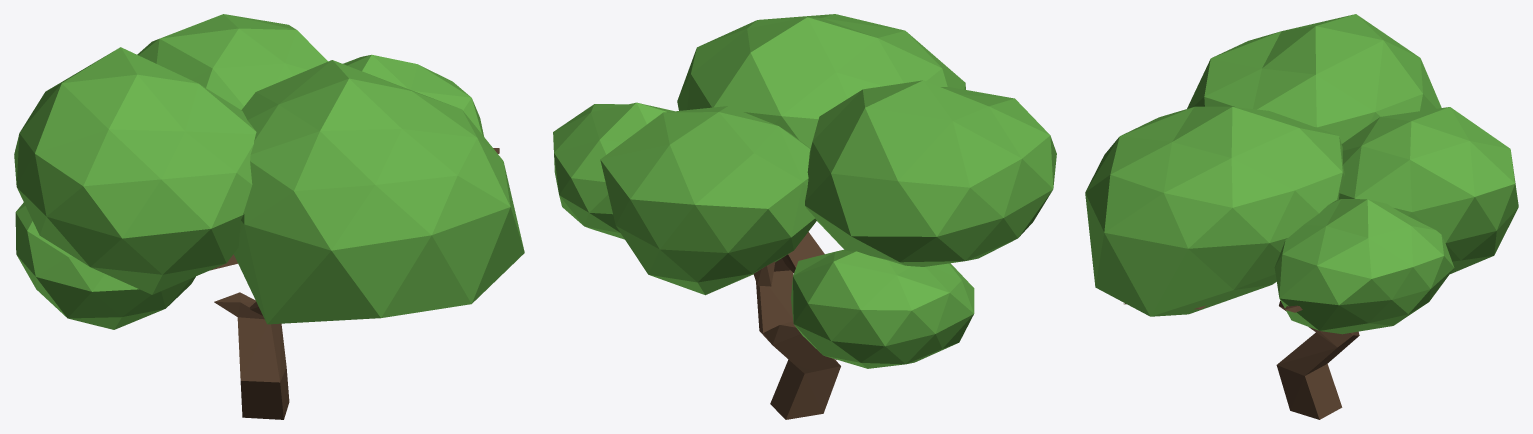
File: tree1.fbx
3 renders of one model, left to right at view 1: azimuth 30°, elevation 25°; view 2: azimuth 150°, elevation 25°; view 3: azimuth 270°, elevation 25°, orthographic. The views are drawn at different scales.
Visible parts, largest first — view 1: Icosphere.001; view 2: Icosphere.001; view 3: Icosphere.001.
Part boxes in pixels (left/top/right/bottom): Icosphere.001: left=14, top=14, right=524, bottom=419; Icosphere.001: left=553, top=14, right=1056, bottom=419; Icosphere.001: left=1085, top=14, right=1518, bottom=419.
Bounding box in the file's own units: 3151 × 2363 × 2839.
